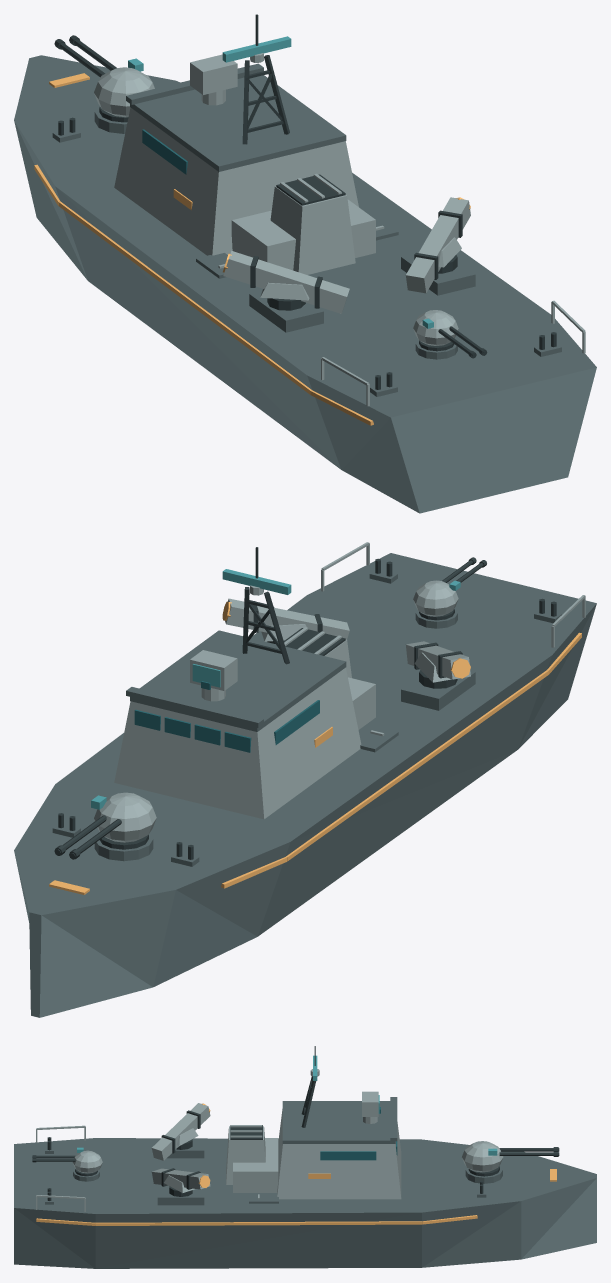
Rendered from ESC_STK_T0.fbx.
The picture shows the model from 3 angles, top to bottom: view 1: azimuth 30°, elevation 25°; view 2: azimuth 150°, elevation 25°; view 3: azimuth 270°, elevation 25°; orthographic projection. The views are drawn at different scales.
Visible parts, largest first — view 1: ContinuousHull.012, Deckhouse.012, Roof.012, FunnelEnclosure.012, AftEngineHouse, MissileBankPortTube1, MissileBankStarboardTube1, PrimaryGunCupola.012, RoleHullStripe-1_1, FireControlHousing, MissileBankPortFoundation, MissileBankStarboardFoundation (+6 smaller); view 2: ContinuousHull.012, Deckhouse.012, Roof.012, PrimaryGunCupola.012, RoleHullStripe-1_1, MissileBankStarboardTube1, BridgeBrow, MissileBankPortFoundation, AftGunCupola, FireControlHousing, AftEngineHouse, MissileBankPortTube1 (+5 smaller); view 3: ContinuousHull.012, Deckhouse.012, Roof.012, AftEngineHouse, RoleHullStripe1_1, FunnelEnclosure.012, MissileBankPortTube1, PrimaryGunCupola.012, MissileBankStarboardFoundation, MissileBankStarboardTube1, BridgeSideGlass1, AftGunCupola (+6 smaller).
Boxes of the visible parts, box(x1,y1,x2,y2) form: ContinuousHull.012: box(14, 55, 596, 513); Deckhouse.012: box(114, 107, 358, 255); Roof.012: box(130, 75, 346, 171); FunnelEnclosure.012: box(270, 186, 355, 274); AftEngineHouse: box(231, 199, 375, 270); MissileBankPortTube1: box(223, 250, 349, 313); MissileBankStarboardTube1: box(405, 197, 470, 293); PrimaryGunCupola.012: box(94, 67, 154, 117); RoleHullStripe-1_1: box(58, 201, 312, 394); FireControlHousing: box(190, 54, 237, 94); MissileBankPortFoundation: box(249, 291, 323, 332); MissileBankStarboardFoundation: box(401, 252, 475, 295); ContinuousHull.012: box(14, 553, 596, 1017); Deckhouse.012: box(114, 667, 361, 819); Roof.012: box(130, 630, 346, 731); PrimaryGunCupola.012: box(94, 792, 156, 842); RoleHullStripe-1_1: box(286, 670, 548, 861); MissileBankStarboardTube1: box(225, 598, 349, 639); BridgeBrow: box(126, 687, 263, 727); MissileBankPortFoundation: box(401, 671, 475, 710); AftGunCupola: box(413, 580, 458, 616); FireControlHousing: box(190, 650, 237, 690); AftEngineHouse: box(348, 677, 375, 729); MissileBankPortTube1: box(405, 641, 470, 679); ContinuousHull.012: box(14, 1138, 596, 1268); Deckhouse.012: box(277, 1109, 401, 1199); Roof.012: box(282, 1101, 395, 1143); AftEngineHouse: box(233, 1138, 278, 1192); RoleHullStripe1_1: box(95, 1221, 421, 1225); FunnelEnclosure.012: box(226, 1126, 265, 1184); MissileBankPortTube1: box(151, 1103, 210, 1160); PrimaryGunCupola.012: box(462, 1141, 503, 1172); MissileBankStarboardFoundation: box(157, 1186, 204, 1205); MissileBankStarboardTube1: box(151, 1168, 210, 1189); BridgeSideGlass1: box(320, 1151, 376, 1160); AftGunCupola: box(72, 1150, 102, 1173).
Bounding box in the file's own units: 281 × 333 × 900.
